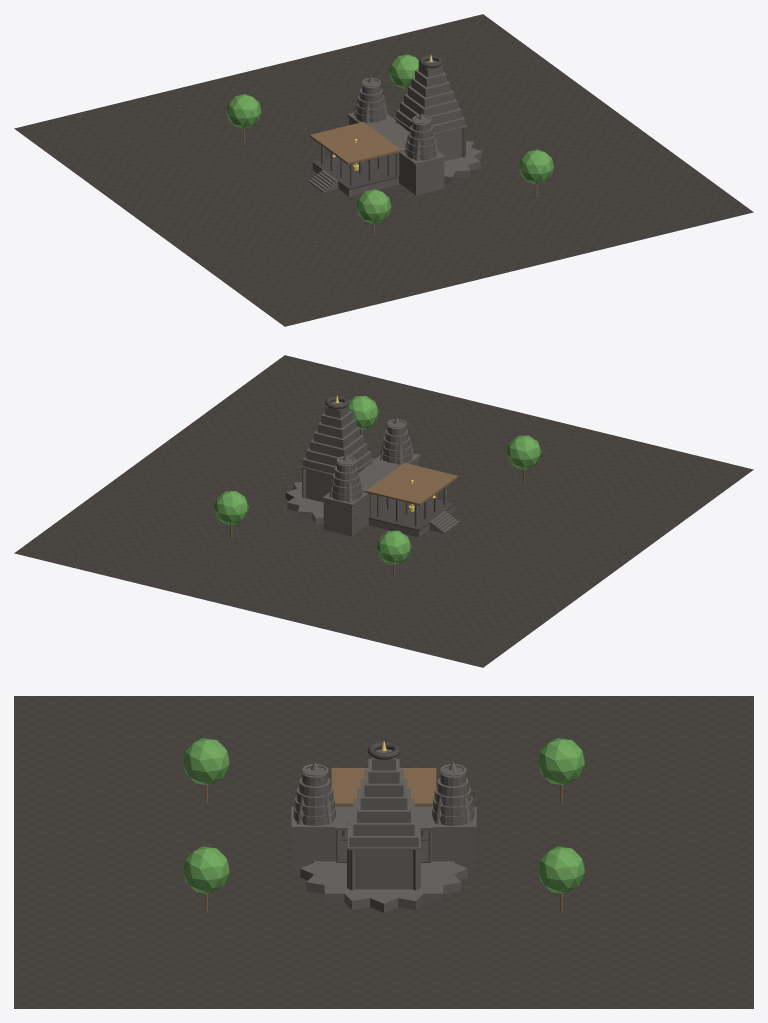
The model's file is kolhapur_mahalakshmi_kshetra_full.glb.
3 renders of one model, top to bottom at view 1: azimuth 30°, elevation 25°; view 2: azimuth 150°, elevation 25°; view 3: azimuth 270°, elevation 25°, orthographic. The views are drawn at different scales.
Visible parts, largest first — view 1: Ground_Main, Garuda_Mandapa_Roof, Garuda_Mandapa_Floor, Temple_Tree_18_14, Temple_Tree_18_-12, Temple_Tree_-18_-12, Garbhagriha, Temple_Tree_-18_14, Sabha_Mandapa_Roof, Mahasaraswati_Wall_Back, Hemadpanti_Shikhara_Tier_3; view 2: Ground_Main, Garuda_Mandapa_Roof, Garuda_Mandapa_Floor, Temple_Tree_-18_14, Temple_Tree_18_-12, Temple_Tree_-18_-12, Garbhagriha, Temple_Tree_18_14, Mahakali_Wall_Back, Sabha_Mandapa_Roof, Hemadpanti_Shikhara_Tier_3; view 3: Ground_Main, Garbhagriha, Garuda_Mandapa_Roof, Temple_Tree_-18_14, Temple_Tree_18_-12, Temple_Tree_18_14, Temple_Tree_-18_-12, Hemadpanti_Stellate_Plinth_0, Hemadpanti_Stellate_Plinth_67.5, Mahakali_Wall_Right, Mahasaraswati_Wall_Left, Hemadpanti_Shikhara_Tier_1 (+8 smaller).
Boxes of the visible parts, bbox=[...] form: Ground_Main: bbox=[14, 14, 753, 326]; Garuda_Mandapa_Roof: bbox=[309, 122, 401, 164]; Garuda_Mandapa_Floor: bbox=[312, 156, 398, 189]; Temple_Tree_18_14: bbox=[519, 149, 553, 196]; Temple_Tree_18_-12: bbox=[356, 189, 391, 236]; Temple_Tree_-18_-12: bbox=[226, 94, 261, 141]; Garbhagriha: bbox=[394, 117, 467, 161]; Temple_Tree_-18_14: bbox=[389, 54, 418, 93]; Sabha_Mandapa_Roof: bbox=[367, 117, 408, 153]; Mahasaraswati_Wall_Back: bbox=[414, 159, 444, 188]; Hemadpanti_Shikhara_Tier_3: bbox=[404, 94, 457, 117]; Ground_Main: bbox=[14, 355, 753, 667]; Garuda_Mandapa_Roof: bbox=[366, 463, 458, 505]; Garuda_Mandapa_Floor: bbox=[369, 497, 455, 530]; Temple_Tree_-18_14: bbox=[214, 491, 248, 537]; Temple_Tree_18_-12: bbox=[506, 435, 541, 482]; Temple_Tree_-18_-12: bbox=[376, 530, 411, 577]; Garbhagriha: bbox=[300, 458, 373, 502]; Temple_Tree_18_14: bbox=[348, 395, 378, 434]; Mahakali_Wall_Back: bbox=[323, 500, 353, 529]; Sabha_Mandapa_Roof: bbox=[359, 458, 400, 494]; Hemadpanti_Shikhara_Tier_3: bbox=[310, 435, 363, 458]; Ground_Main: bbox=[14, 696, 753, 1008]; Garbhagriha: bbox=[347, 817, 420, 889]; Garuda_Mandapa_Roof: bbox=[331, 768, 436, 806]; Temple_Tree_-18_14: bbox=[538, 846, 584, 911]; Temple_Tree_18_-12: bbox=[183, 738, 229, 802]; Temple_Tree_18_14: bbox=[183, 846, 229, 911]; Temple_Tree_-18_-12: bbox=[538, 738, 584, 802]; Hemadpanti_Stellate_Plinth_0: bbox=[324, 861, 443, 902]; Hemadpanti_Stellate_Plinth_67.5: bbox=[306, 861, 455, 909]; Mahakali_Wall_Right: bbox=[432, 829, 475, 861]; Mahasaraswati_Wall_Left: bbox=[292, 829, 335, 861]; Hemadpanti_Shikhara_Tier_1: bbox=[349, 808, 418, 847].
Size of the model in its own units: 75 by 15.95 by 75.
25 materials, 1 textured.
